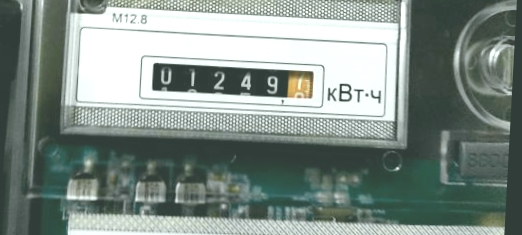0: (157, 64, 172, 85)
1: (184, 65, 197, 87)
2: (209, 68, 226, 90)
4: (238, 69, 252, 90)
7: (292, 69, 306, 90)
9: (264, 73, 278, 94)
screen: (135, 50, 328, 110)
